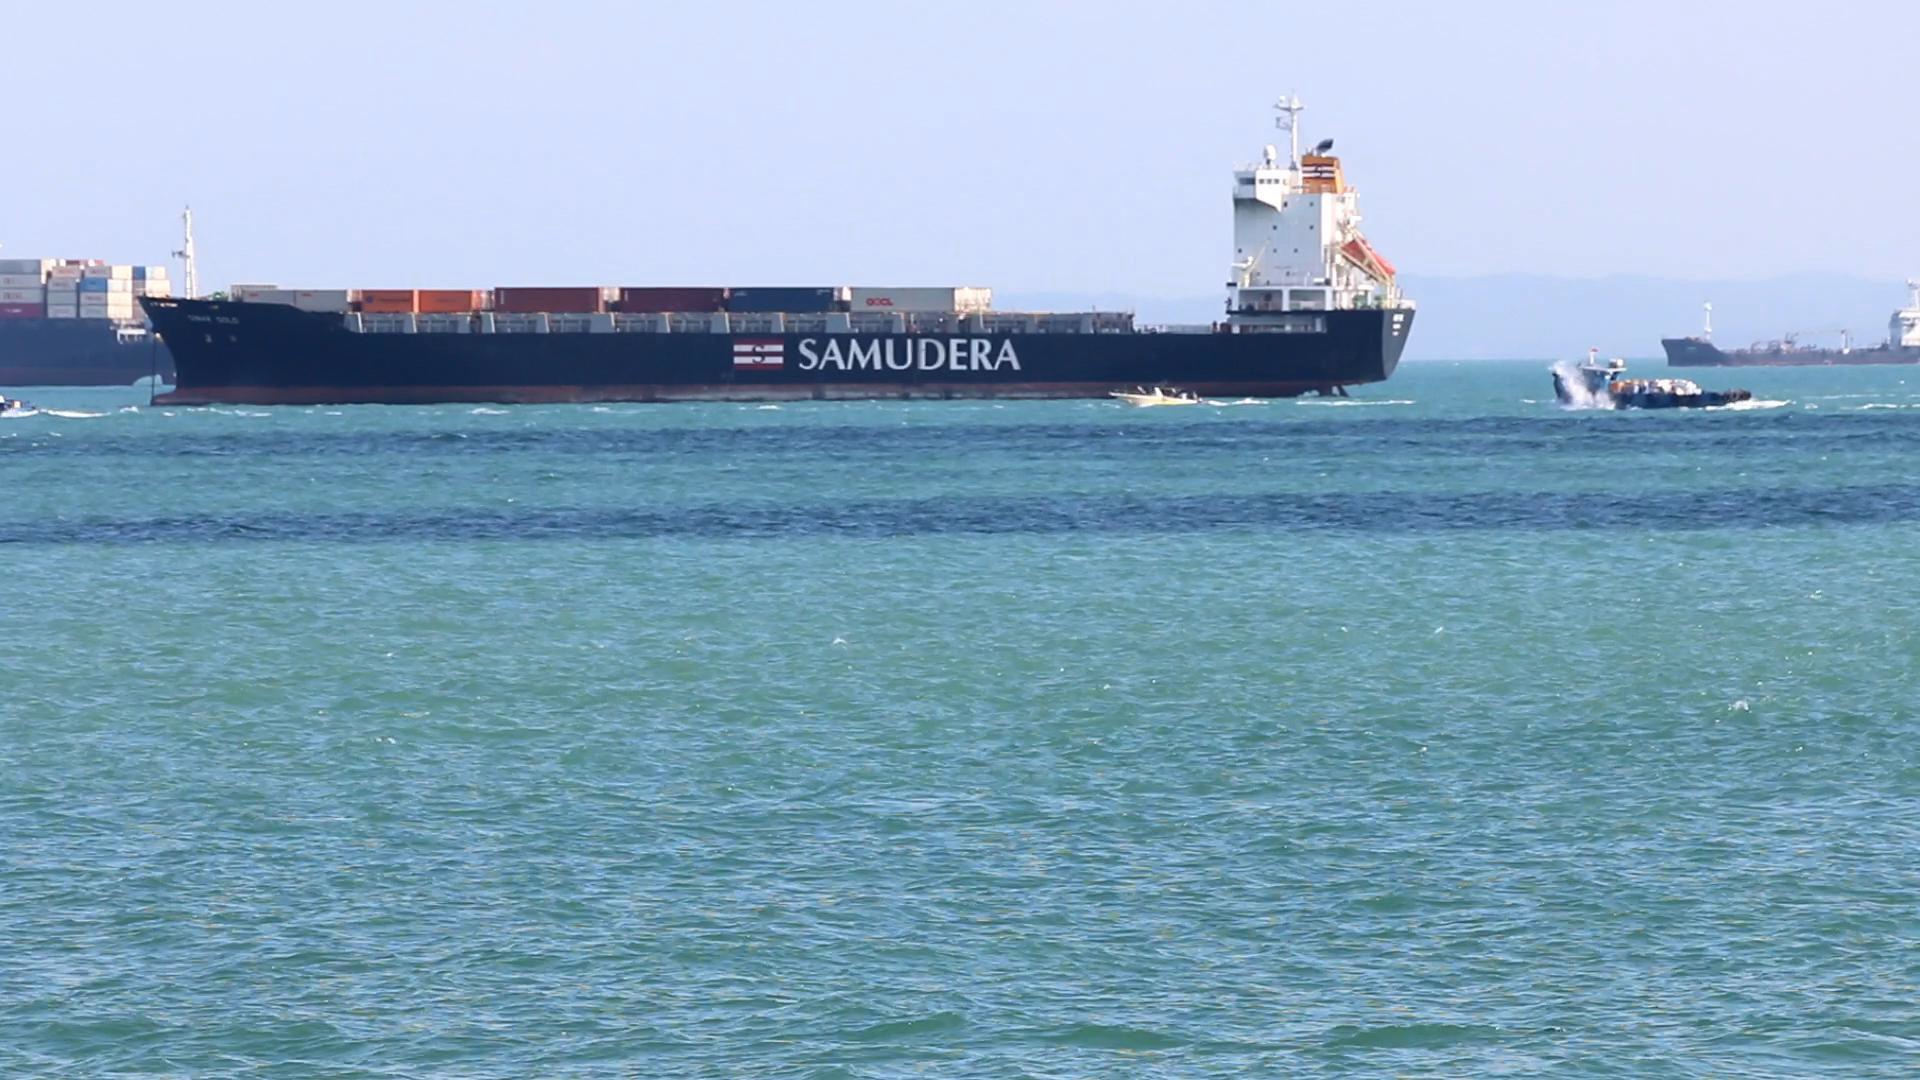Container Ship: (148, 84, 1429, 404), (1, 255, 177, 388)
